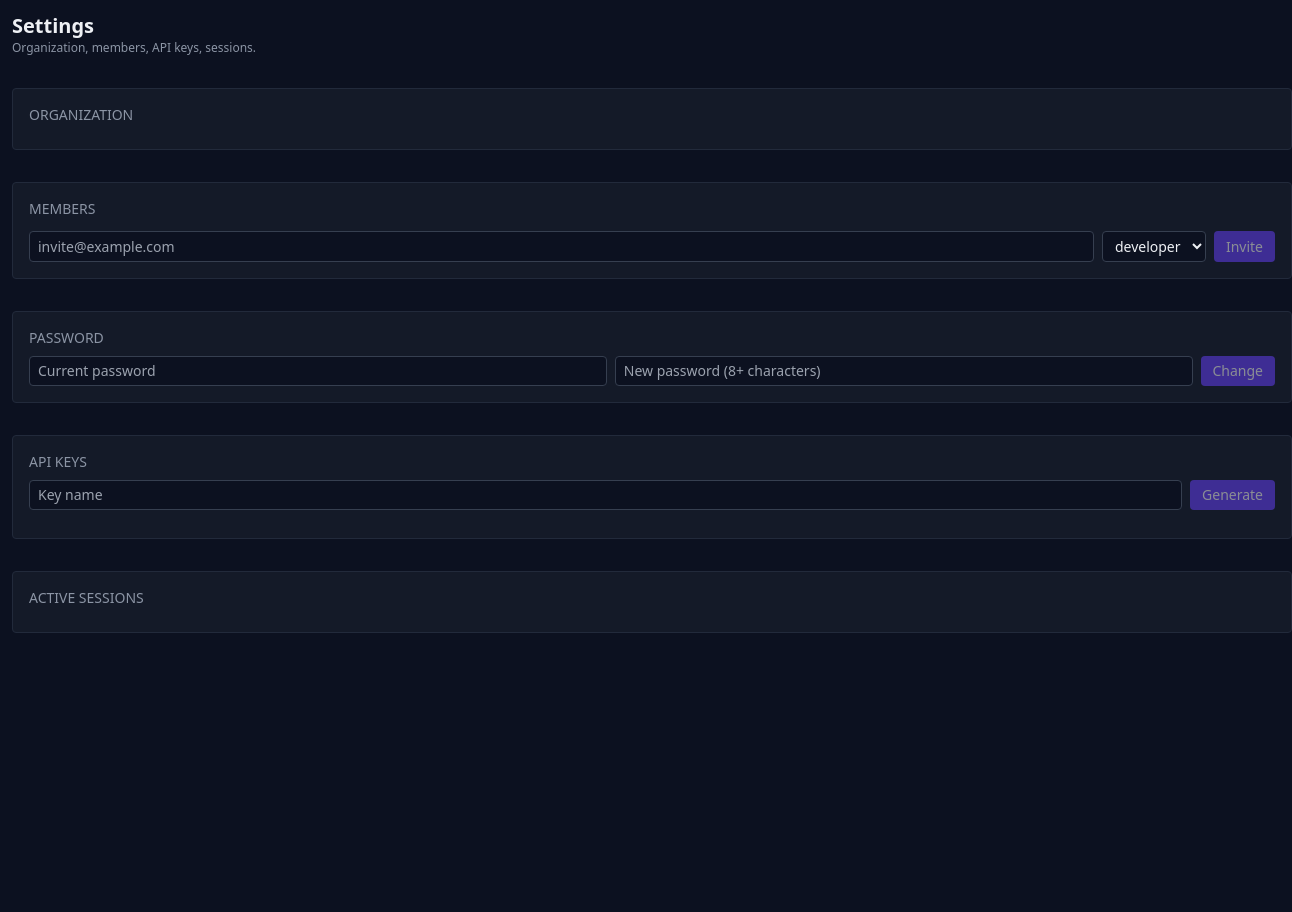
Test: Settings invite › says when an existing account was added
The image size is (1292, 912).
Type "old@b.co" into the field with placeholder "invite@example.com" at (561, 246), box 29,231 -> 1094,262
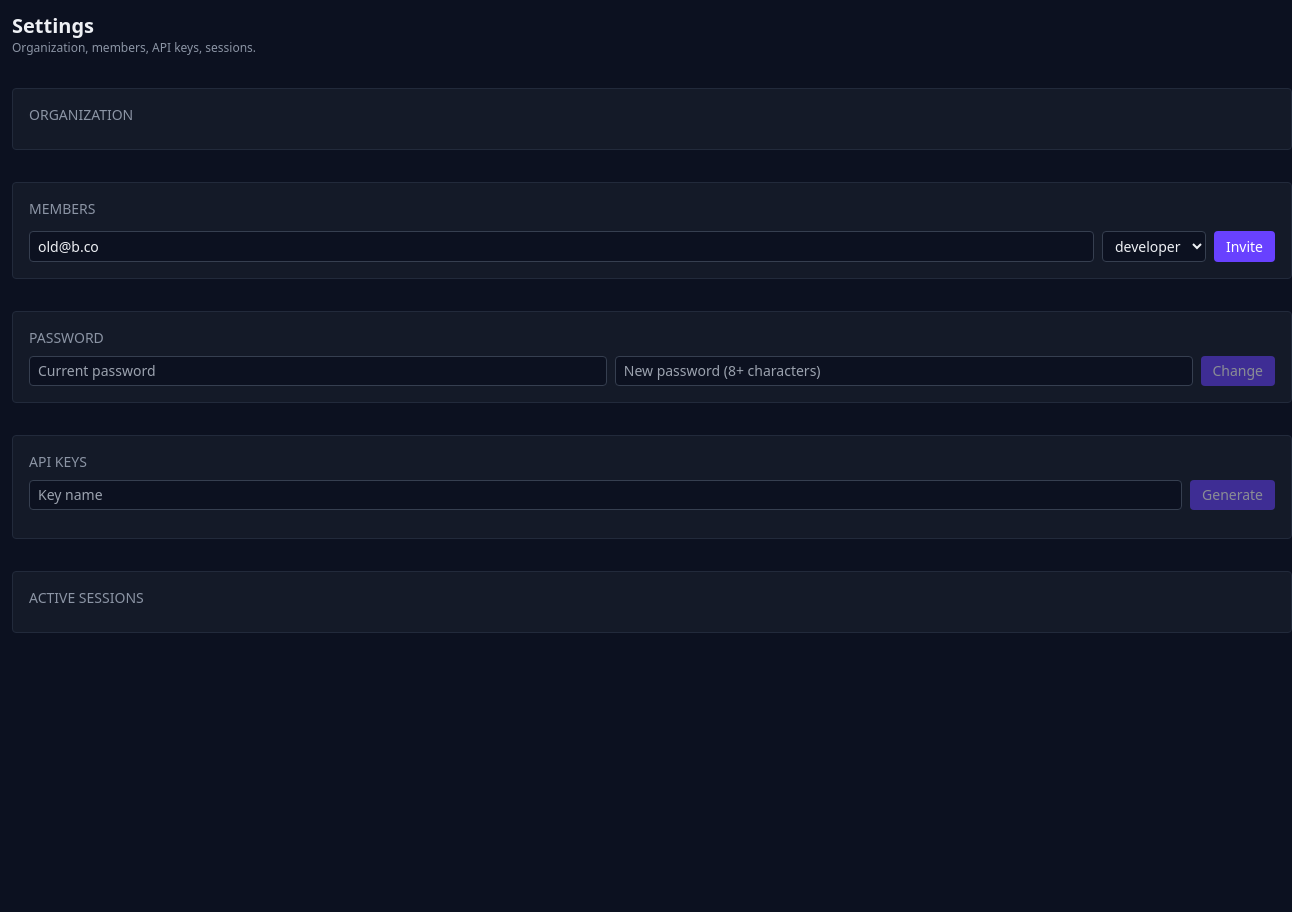
Click the button "Invite" at (1244, 246), box 1214,231 -> 1275,262
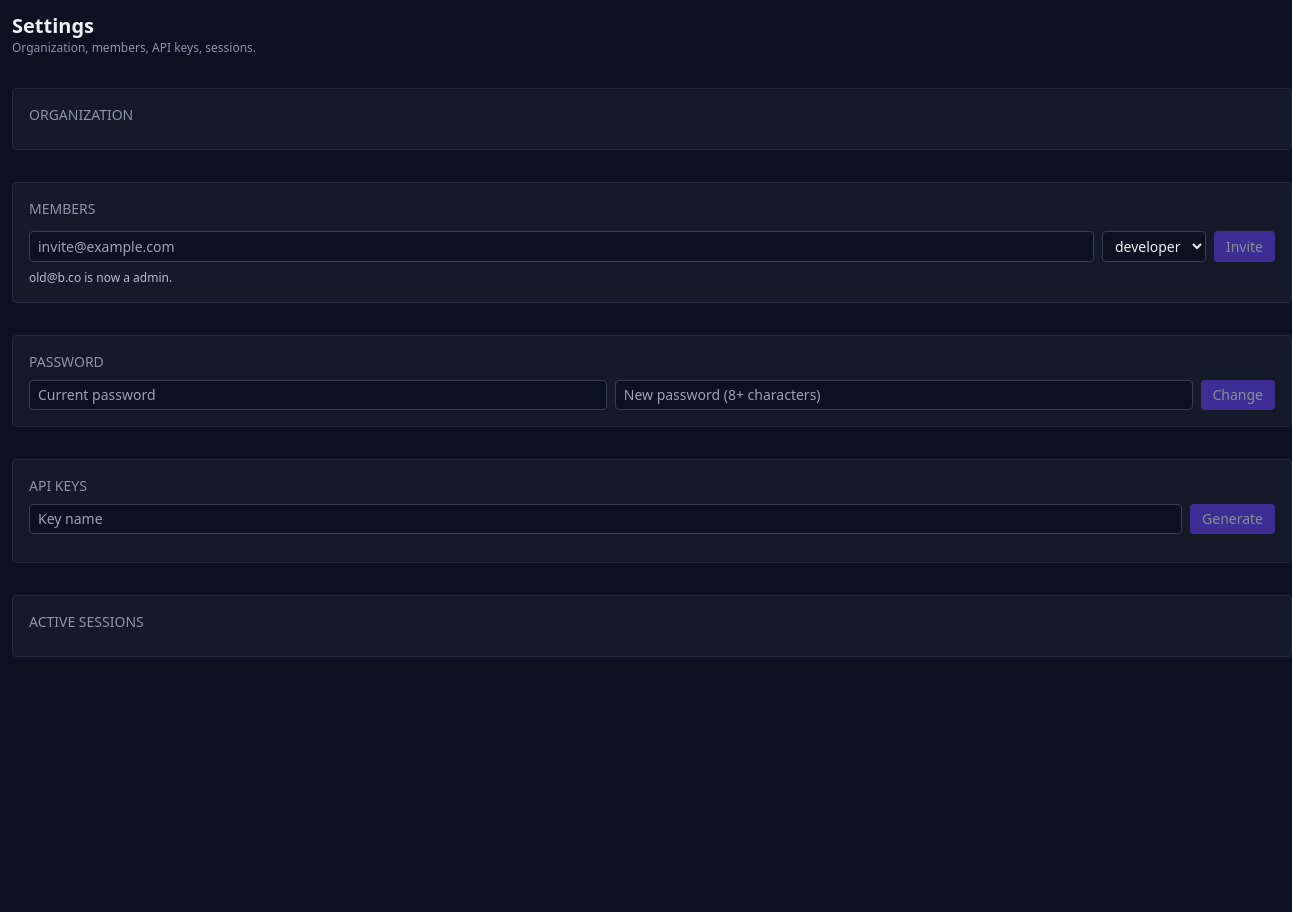
Check: the text with test id "invite-result" reads "old@b.co is now a admin.", box 29,269 -> 172,286
